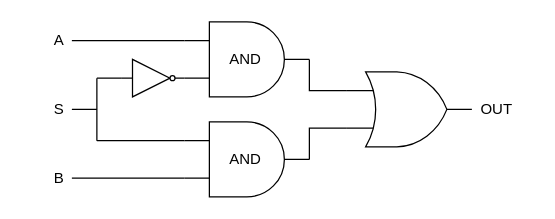
Image size: 555x219. Some labels were removed from this diagram. The shapes that lost their labels are listed below. From the top down, each one's box as (x1, y1, x2, y2) in pixels, then its label:
(121, 58, 184, 97): NOT
(346, 71, 472, 147): OR
